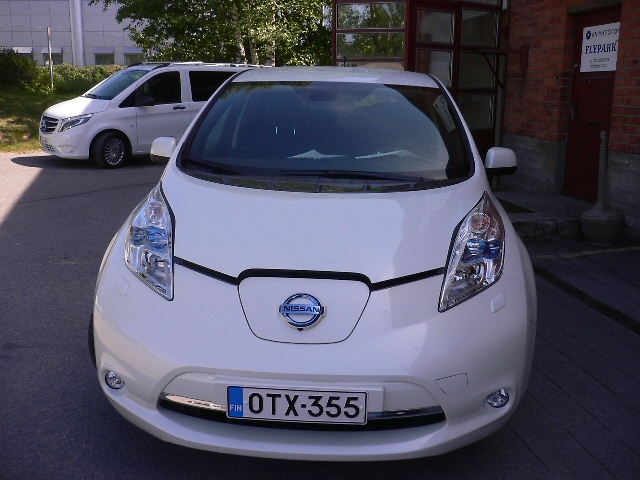license: (224, 385, 365, 426)
